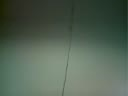window: (0, 0, 51, 96), (88, 1, 128, 96)
